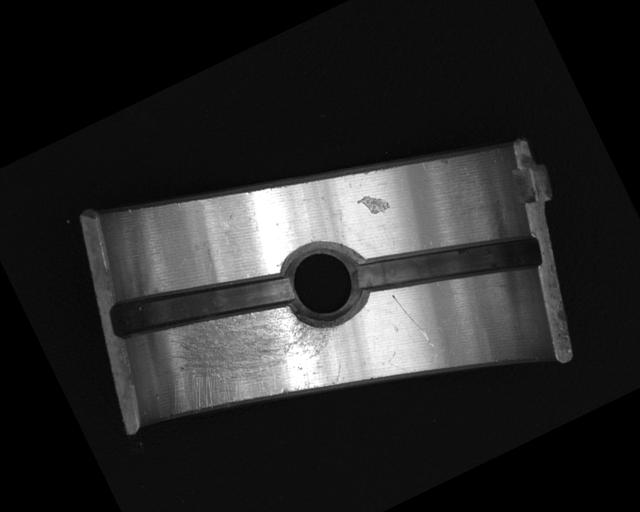bruise: (355, 186, 393, 222)
gap: (351, 188, 545, 337), (103, 230, 298, 375)
hole: (270, 227, 378, 340)
nick: (389, 287, 434, 355)
scratch: (138, 260, 351, 450)
